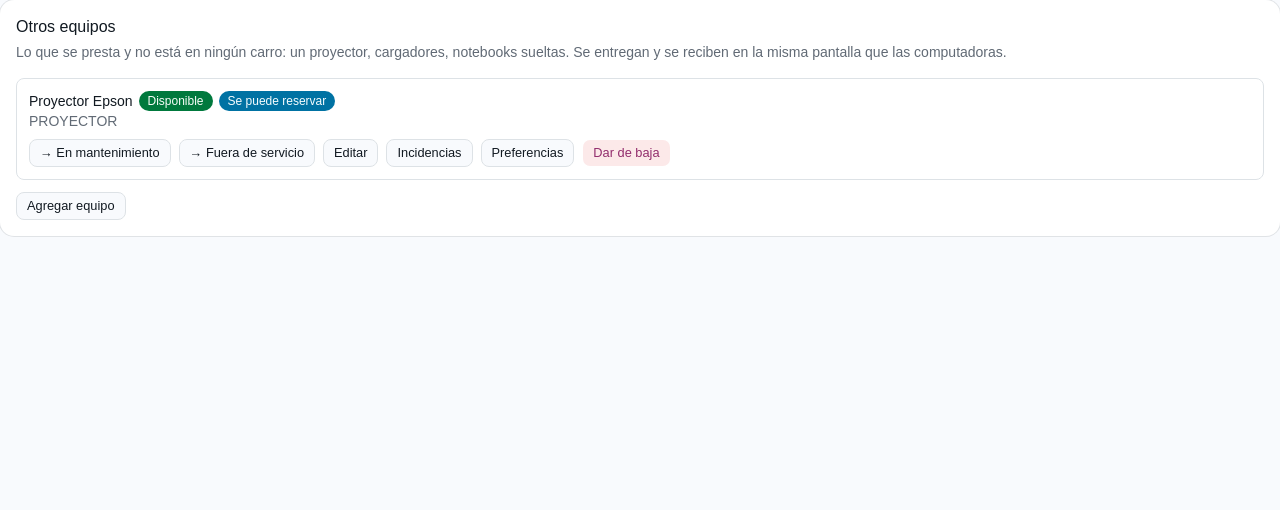
Test case: OtrosEquipos › el formulario arranca con lo que el equipo ya tenía
Click the button "Editar".
click(351, 153)  # box [323,139,378,167]
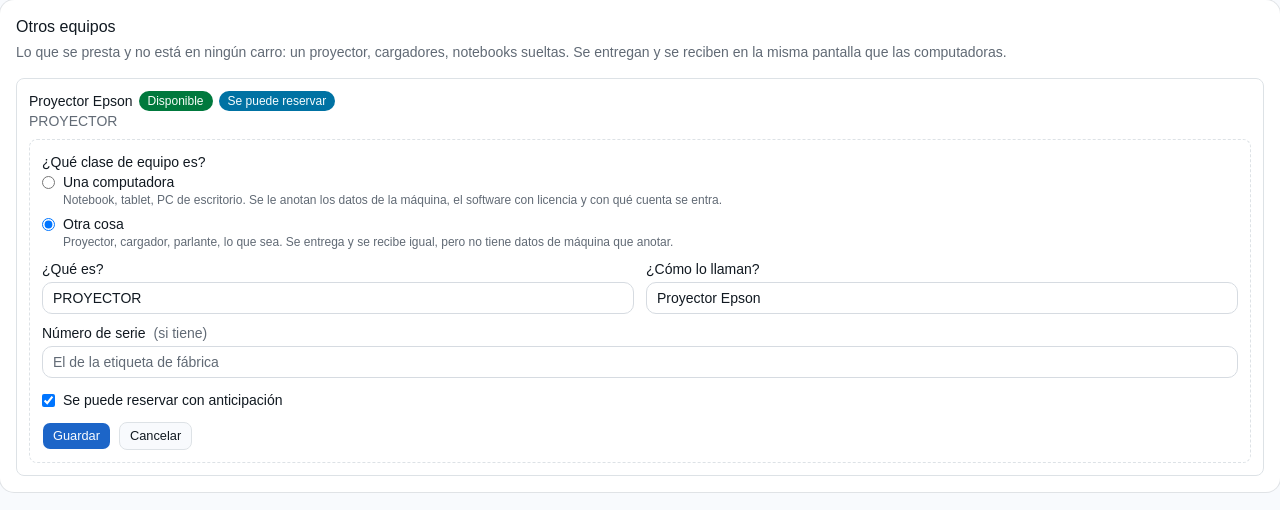
Expected: the field labelled "¿Qué es?" holds "PROYECTOR", [42,282,634,314]
Expected: the field labelled "¿Cómo lo llaman?" holds "Proyector Epson", [646,282,1238,314]
Expected: the checkbox labelled "Se puede reservar con anticipación" is checked, [42,394,55,407]
